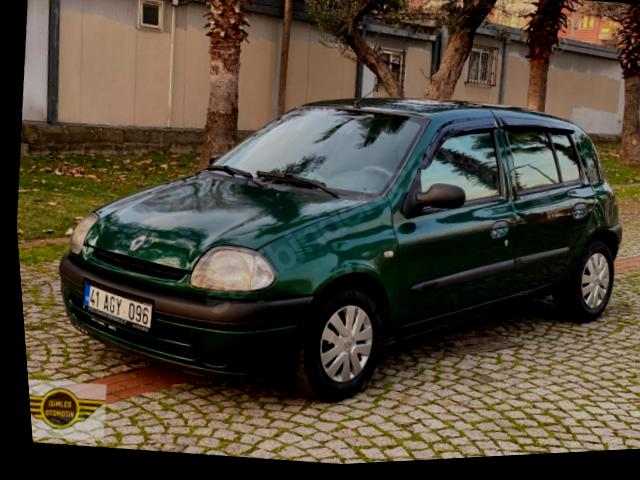plaka: (84, 283, 151, 332)
